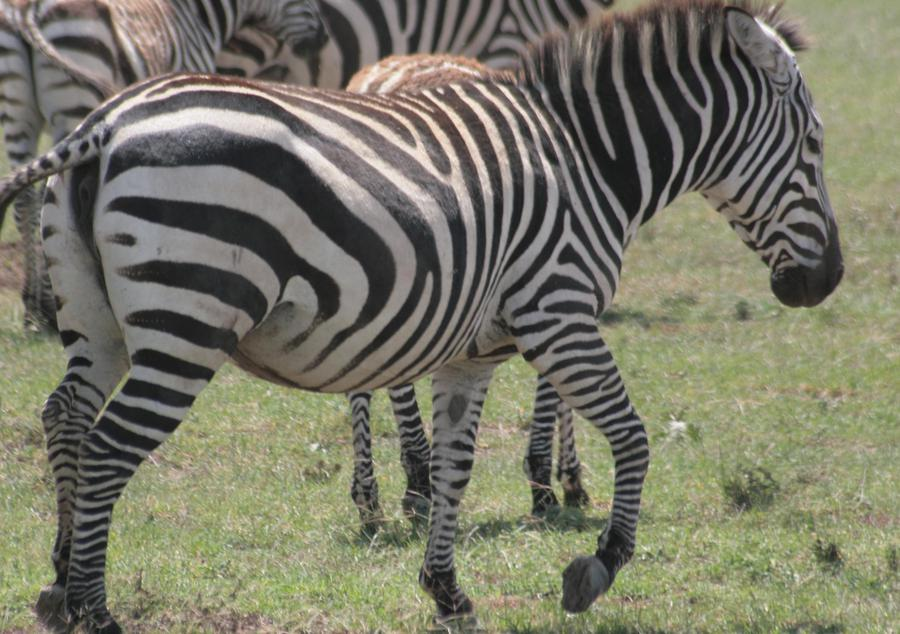zebra_plains: (120, 73, 615, 377)
